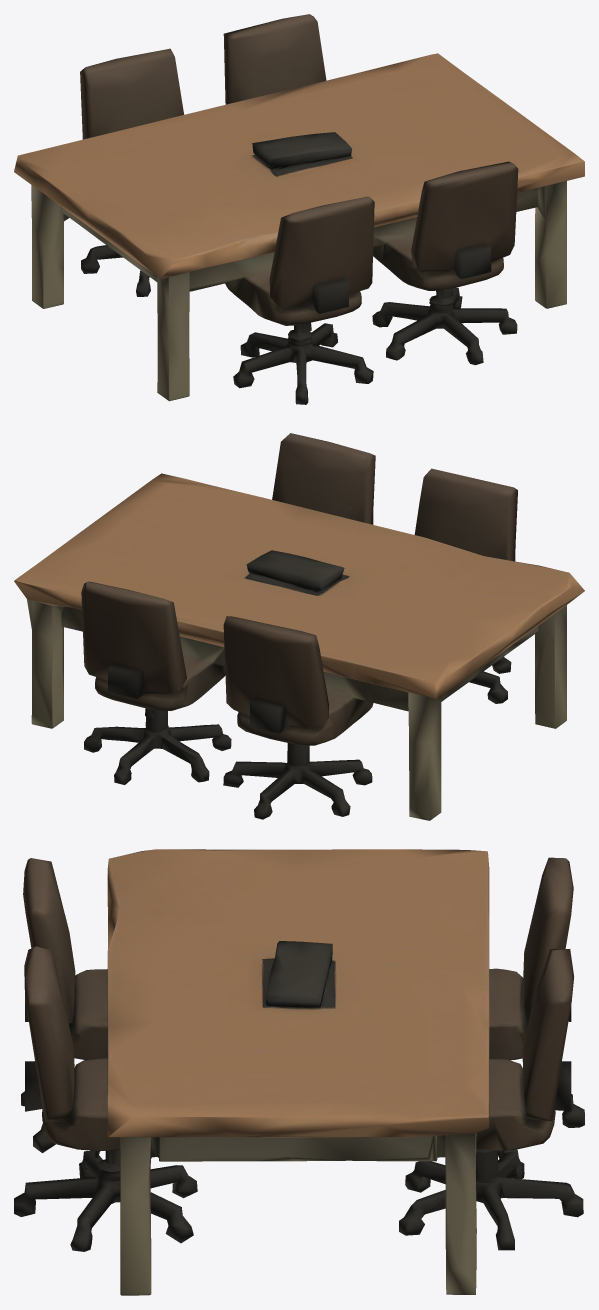
The model's file is conference.fbx.
3 views of the same model, one above another, from view 1: azimuth 30°, elevation 25°; view 2: azimuth 150°, elevation 25°; view 3: azimuth 270°, elevation 25° (orthographic). The views are drawn at different scales.
Parts seen in each view (by area): view 1: tripo_node_089cc92a; view 2: tripo_node_089cc92a; view 3: tripo_node_089cc92a.
Boxes of the visible parts, left/top/right/bottom form: tripo_node_089cc92a: left=14, top=14, right=584, bottom=404; tripo_node_089cc92a: left=14, top=433, right=584, bottom=820; tripo_node_089cc92a: left=14, top=849, right=584, bottom=1295.
Bounding box in the file's own units: 0.9783 × 0.4142 × 0.8808.
